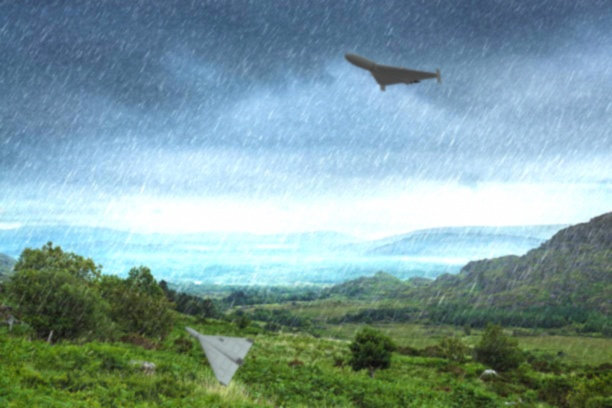shahed: (182, 320, 255, 385), (341, 49, 443, 94)
